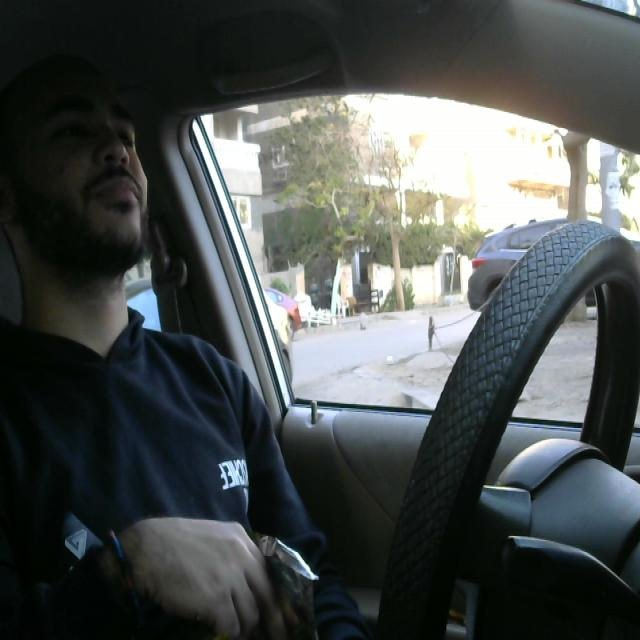eating: (227, 521, 324, 640)
